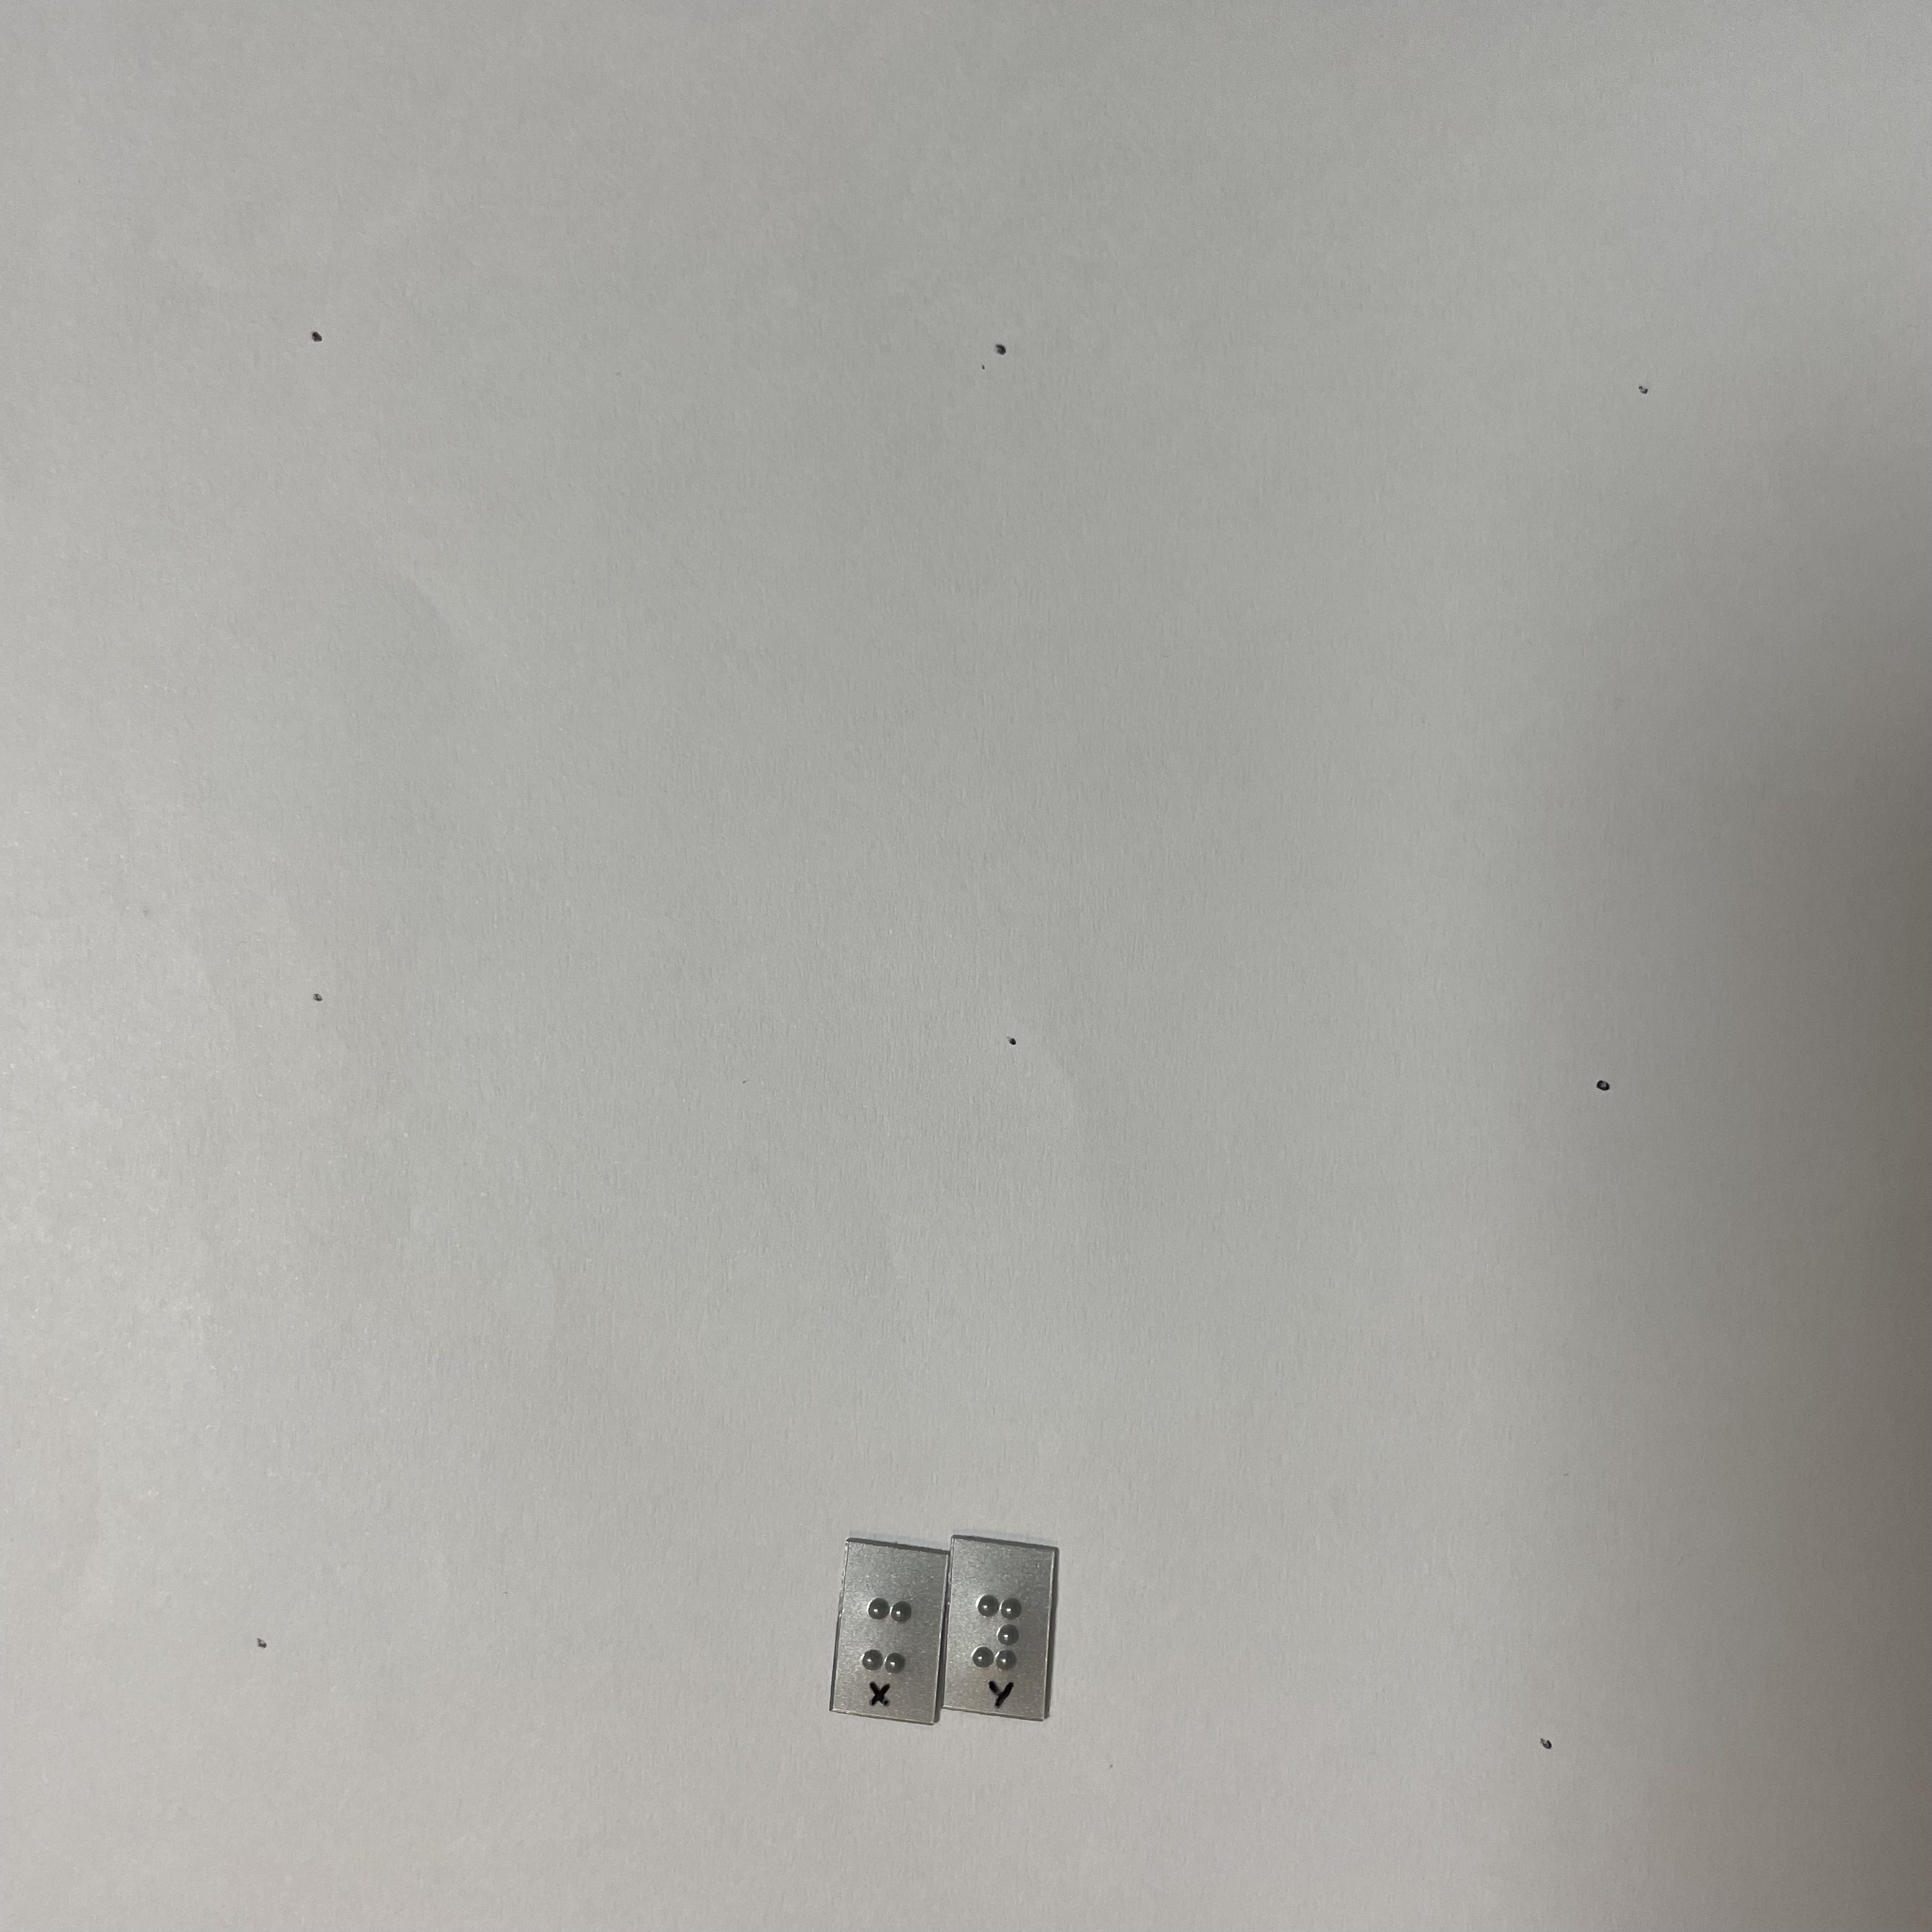x: (854, 1586, 923, 1685)
y: (965, 1586, 1032, 1680)
